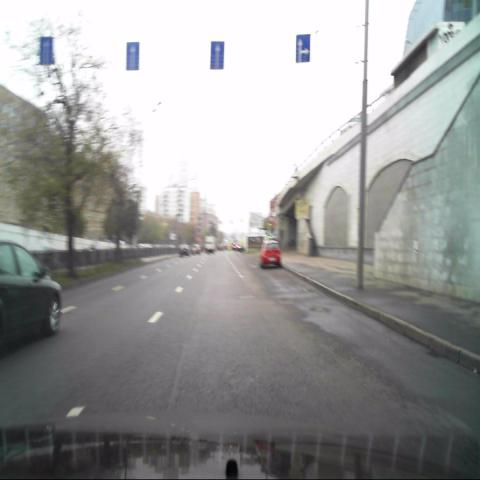5_15_2: (126, 43, 141, 70)
